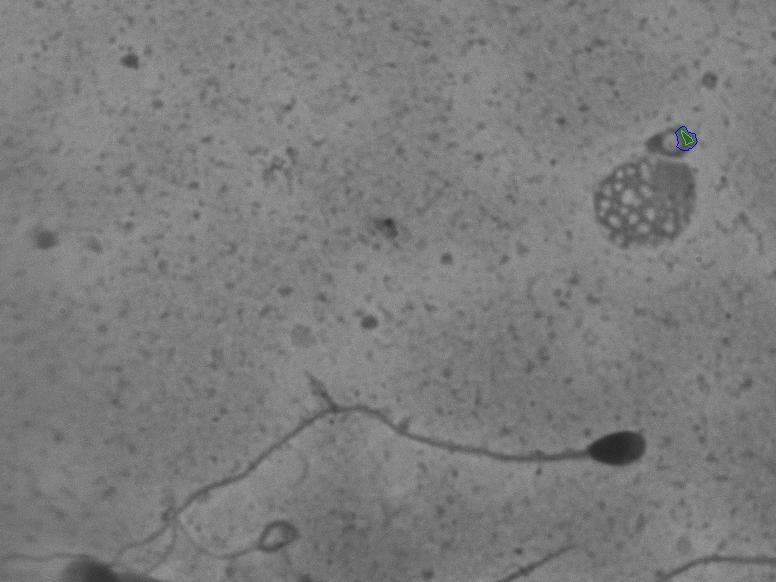Normal: (127, 338, 702, 558)
